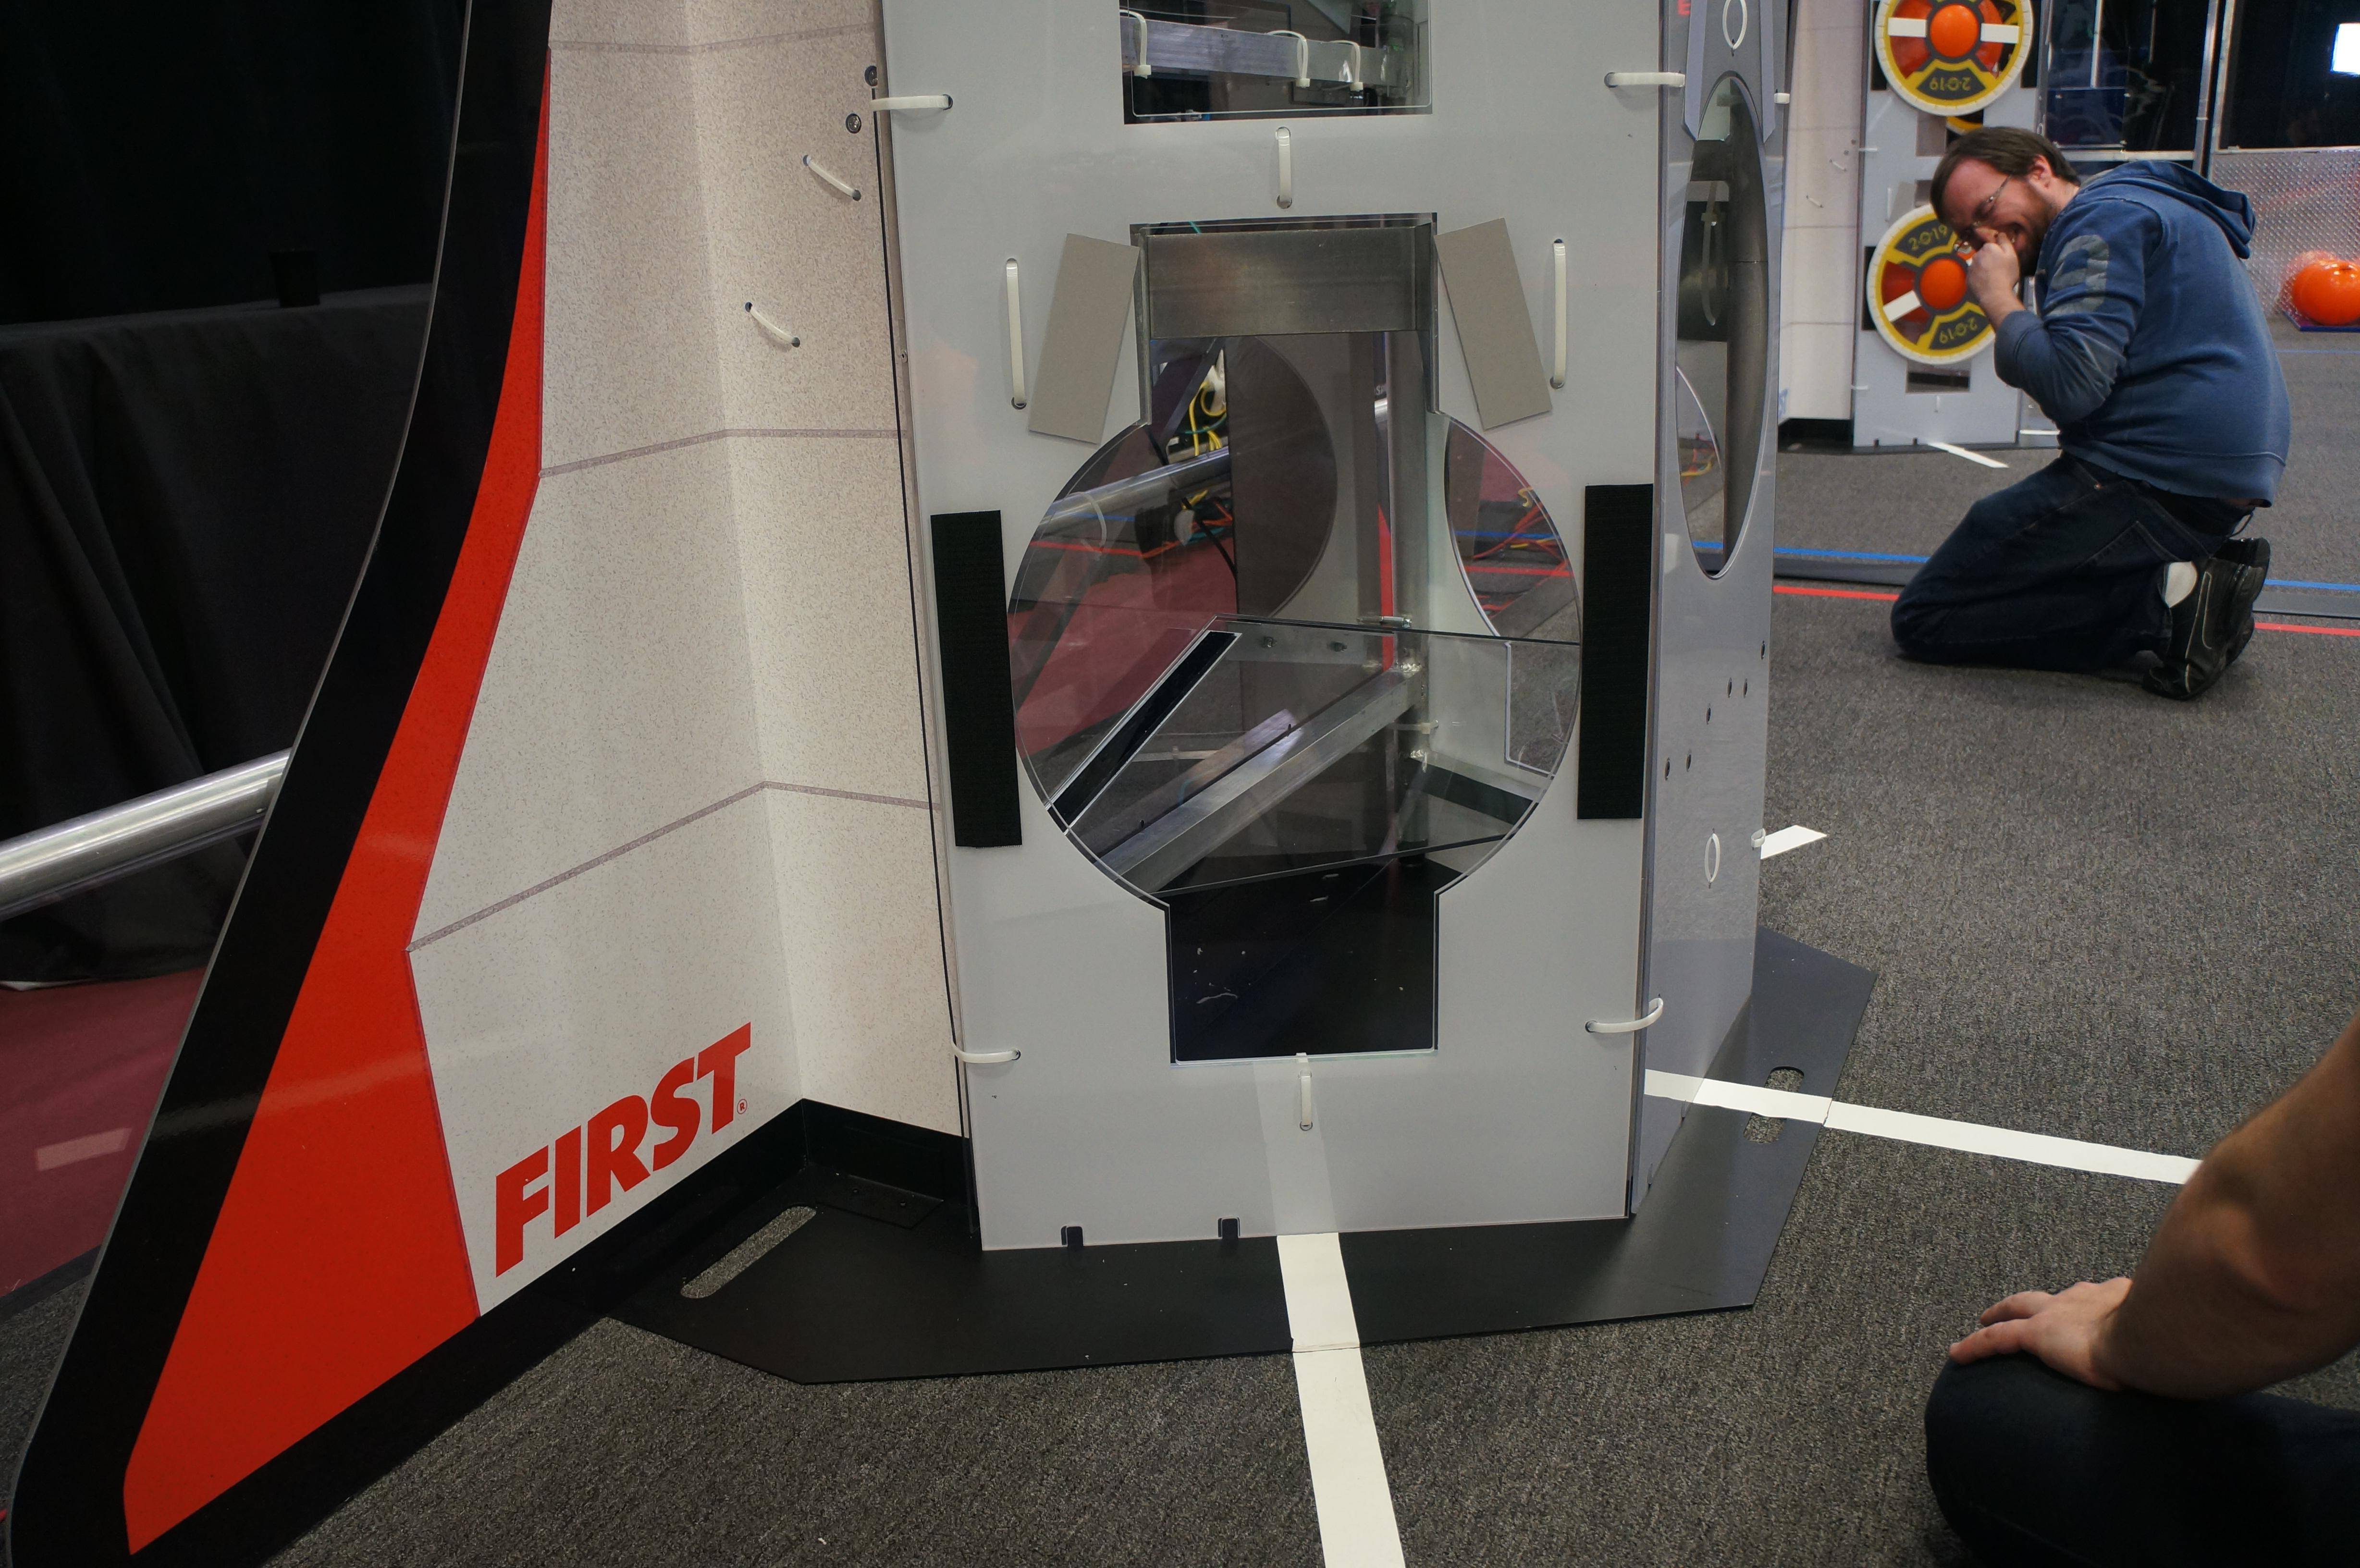Ball: (1889, 236, 1991, 336), (1895, 0, 1998, 89), (2290, 259, 2360, 320)
Hatch: (1870, 198, 2021, 362), (1875, 0, 2040, 115)
Tape: (1025, 229, 1151, 453), (1436, 215, 1554, 432), (1679, 0, 1714, 143), (1760, 0, 1788, 138)
